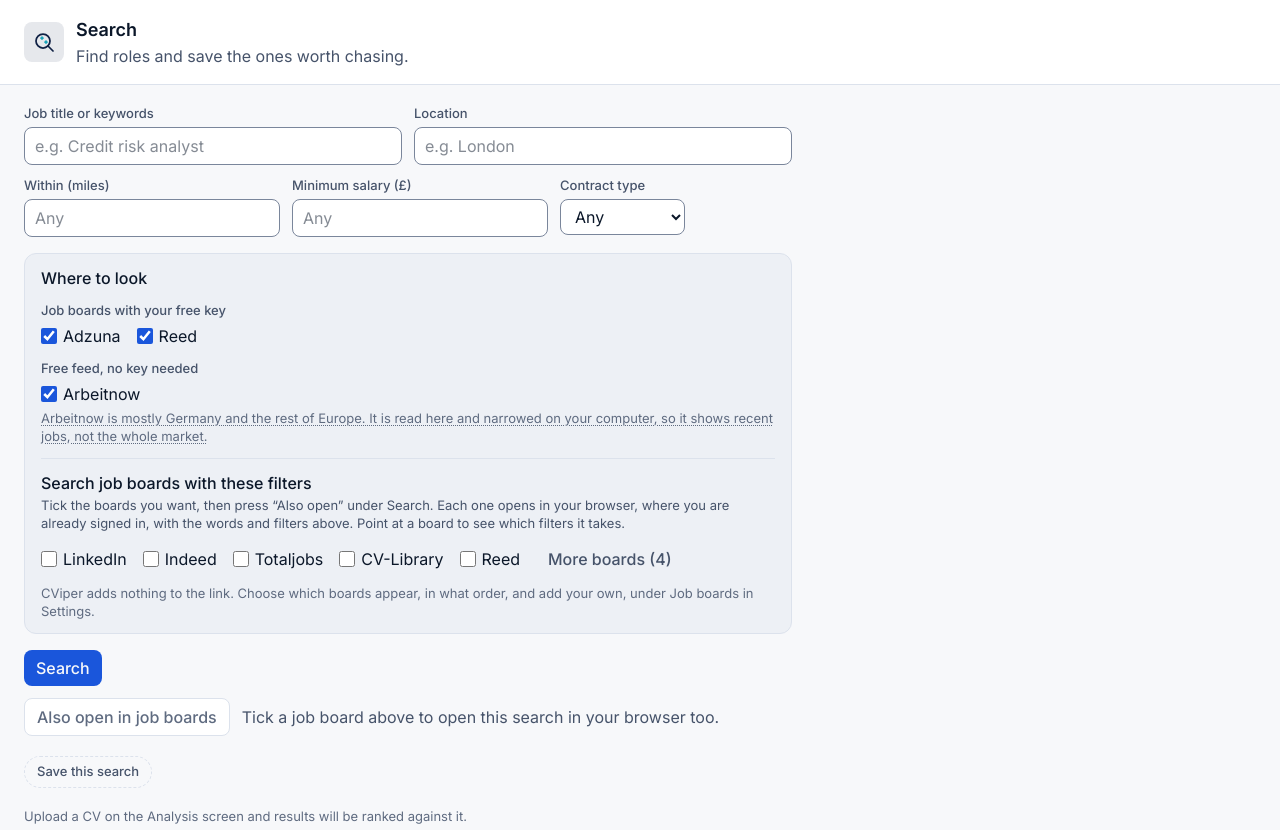
Scenario: saving a search › negative: a form with a mistake in it is not saved, and the field says what is wrong
Expected: the element with test id "keyless-bar" is shown, [41,458,775,621]
Step 1. Type "Tester" into the field with test id "search-keywords" → coordinates (213, 146), box [24,127,402,165]
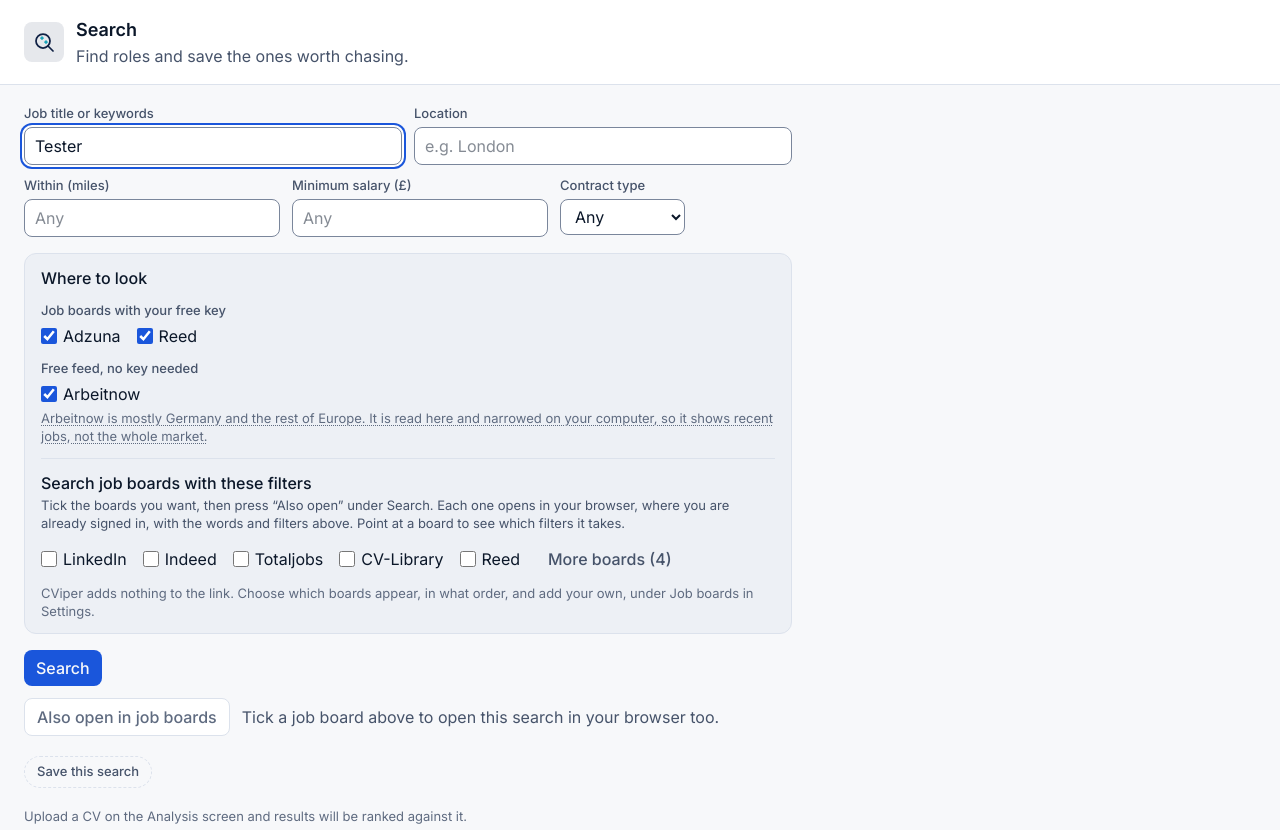
Step 2. Type "London" into the field with test id "search-location" → coordinates (603, 146), box [414,127,792,165]
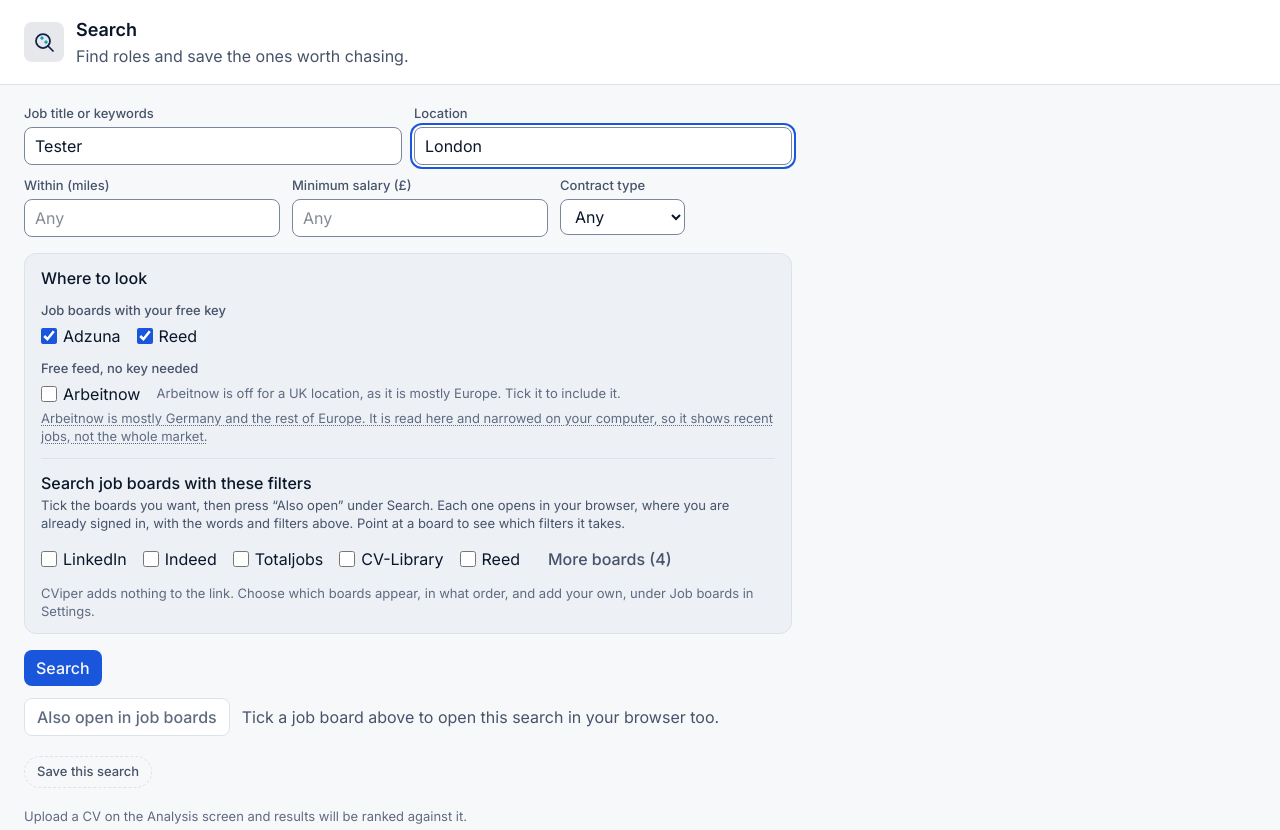
Step 3. Type "£45k" into the field with test id "search-salary" → coordinates (420, 218), box [292,199,548,237]
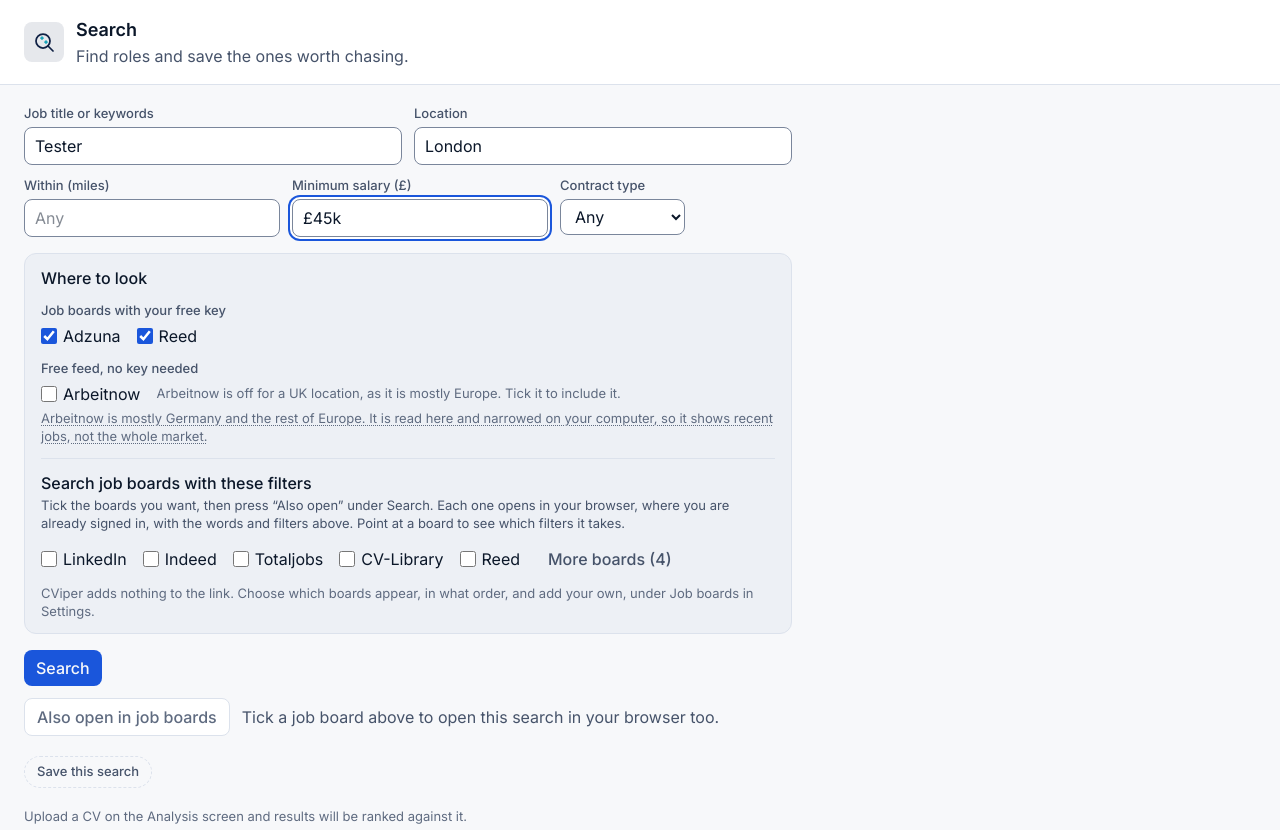
Step 4. Click the button "Save this search" → coordinates (88, 772), box [24,756,152,788]
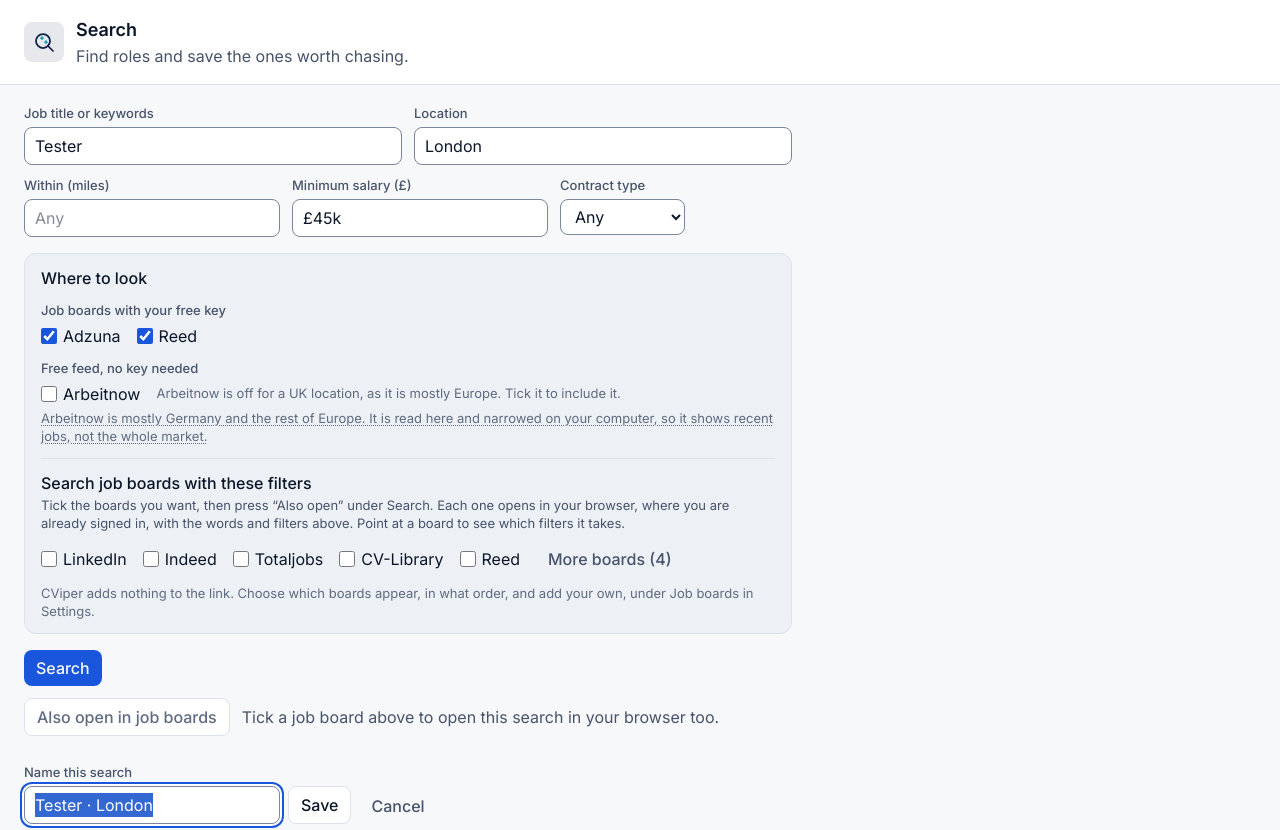
Step 5. Click the button with test id "saved-search-confirm" → coordinates (320, 805), box [288,786,352,824]
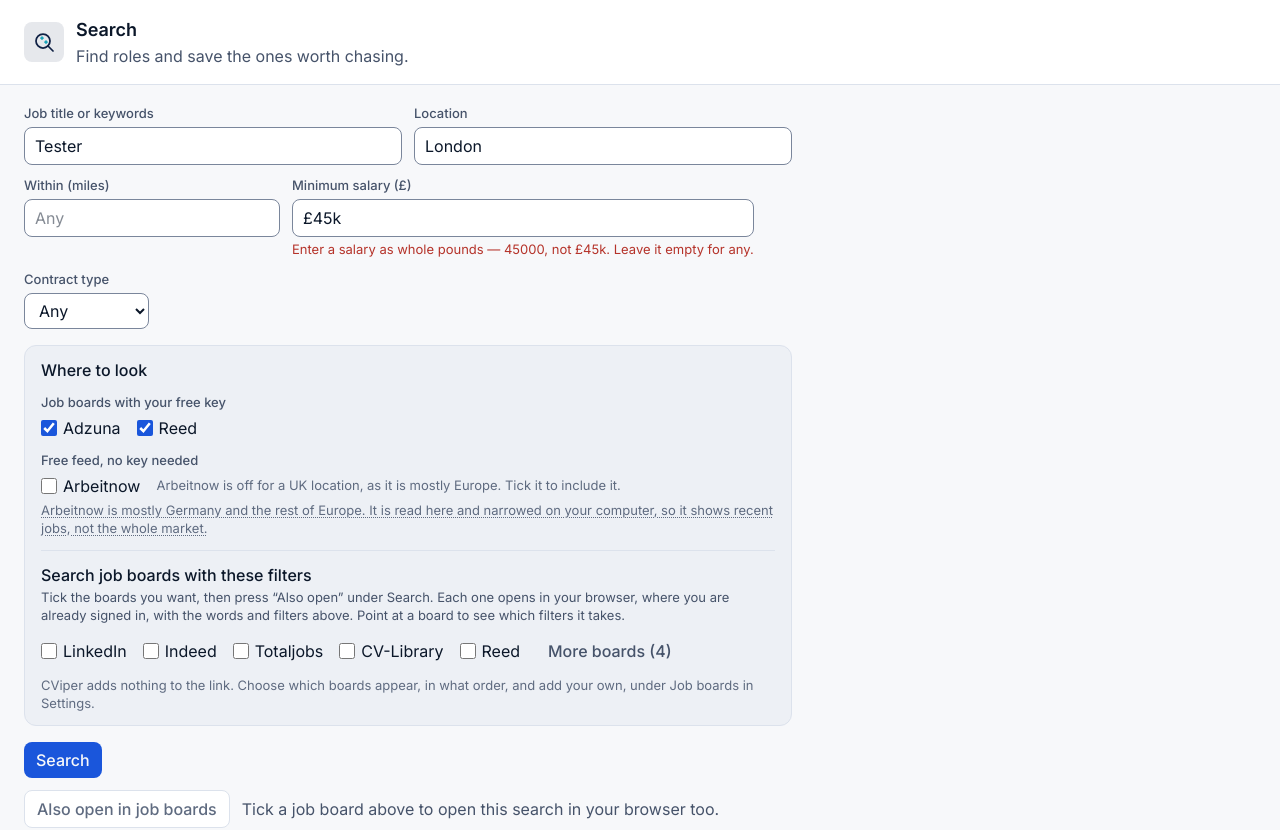
Expected: the text with test id "search-salary-error" shows "whole pounds", [292,241,754,257]
